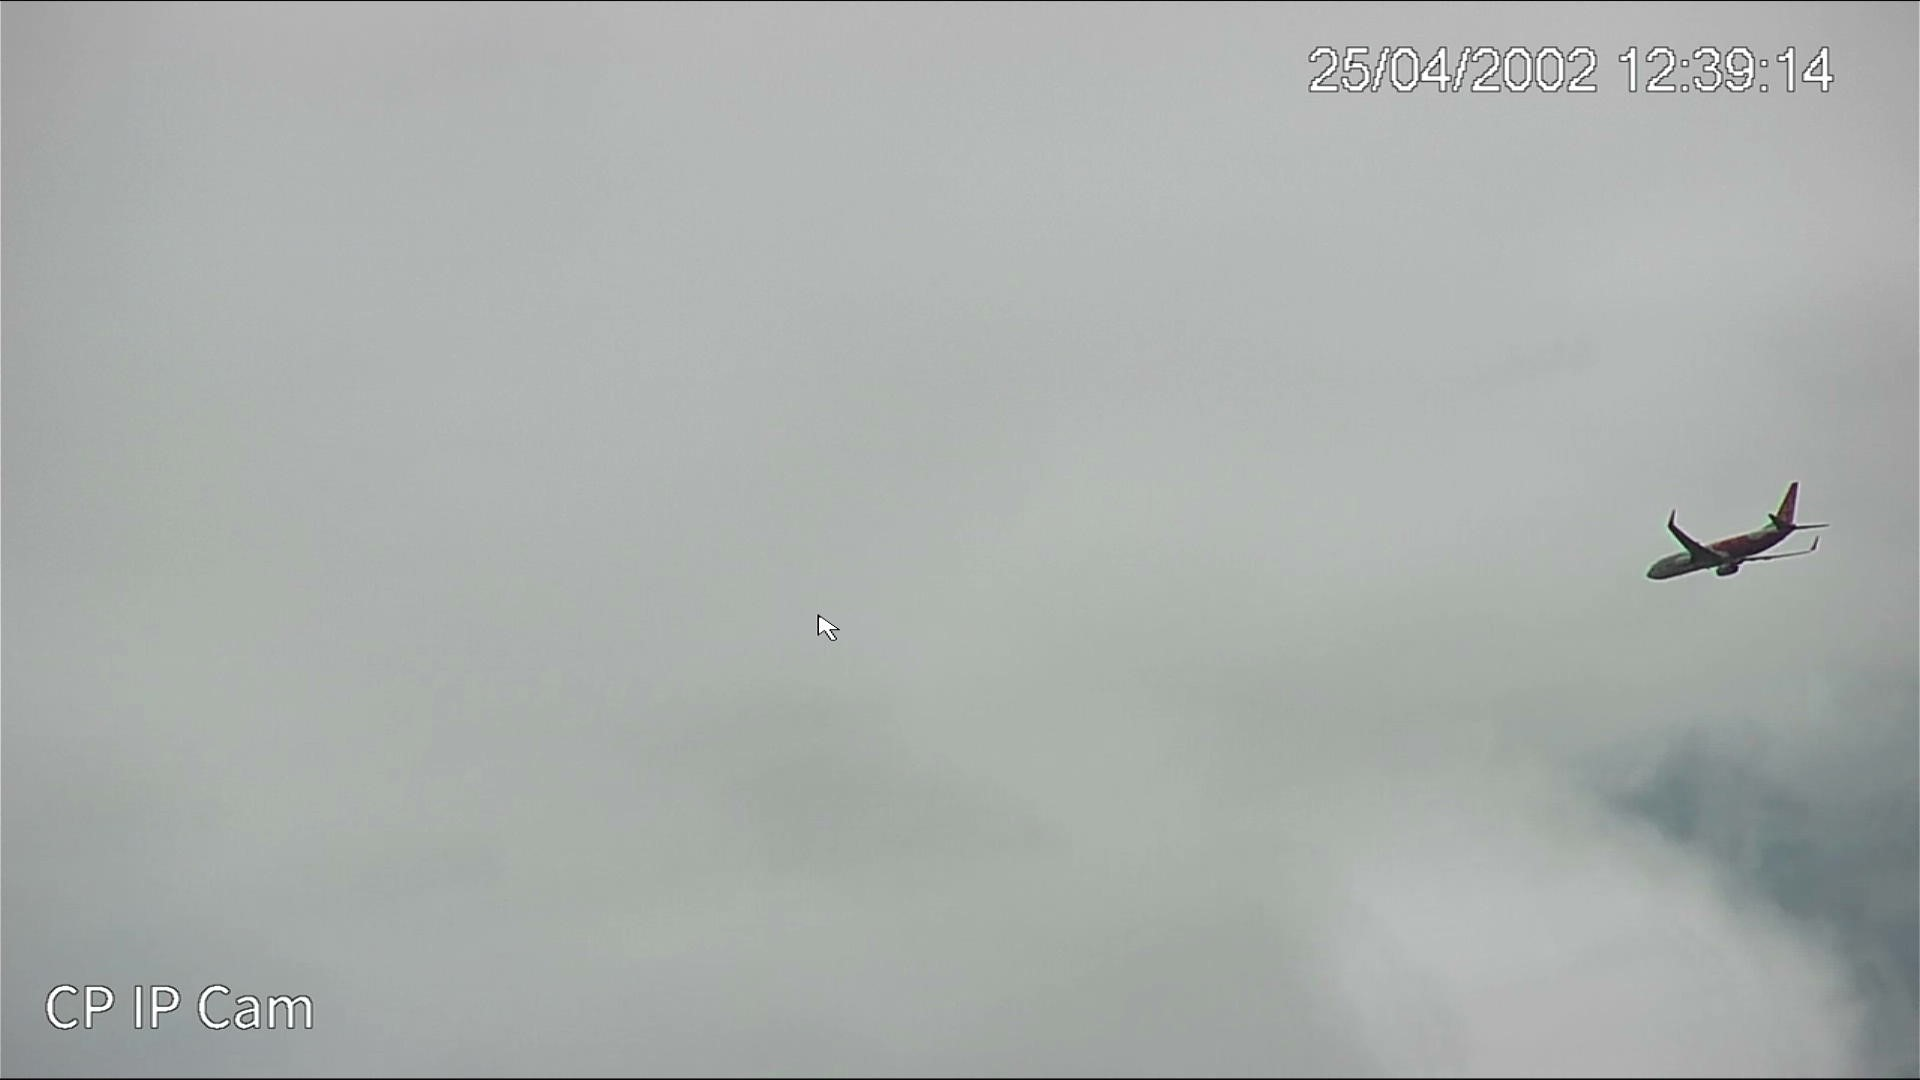SU_30: (1627, 487, 1832, 582)
